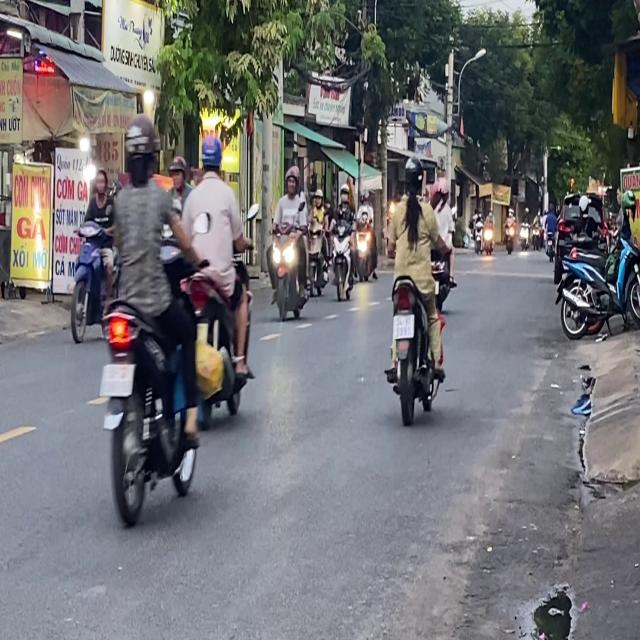helmet: (122, 112, 160, 183), (198, 134, 223, 178), (402, 153, 424, 195), (169, 154, 187, 186), (92, 166, 107, 196), (284, 164, 299, 193)
licenseplate: (96, 109, 202, 526), (179, 130, 255, 428), (383, 150, 449, 422), (68, 164, 114, 343), (266, 164, 310, 321)
nohelmet: (100, 363, 134, 396), (393, 314, 414, 337)
